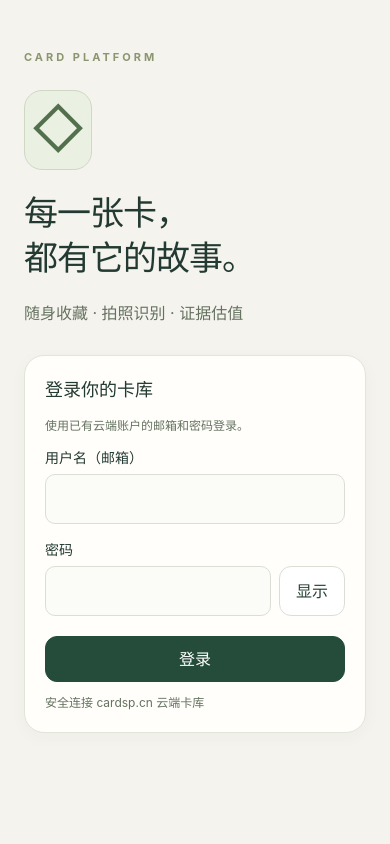
Test case: sends only username and password to the fixed cloud despite an old origin environment setting
Expected: the heading "登录你的卡库" is shown, [45,379,153,400]
Type "owner@example.com" into the field labelled "用户名（邮箱）" at (195, 499), box [45,474,345,524]
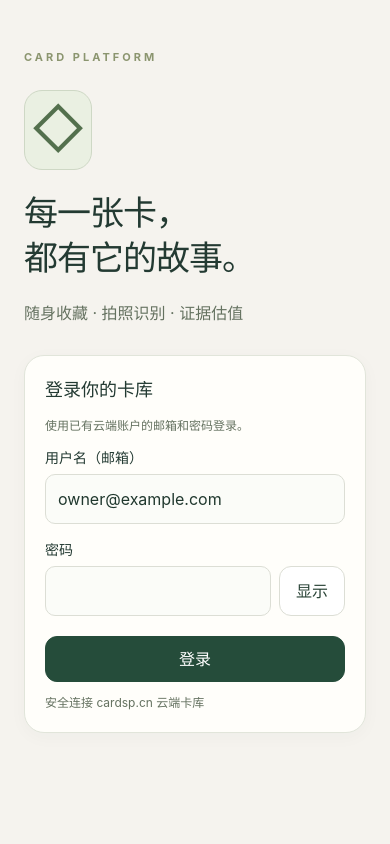
Type "password" into the password field labelled "密码" at (158, 591), box [45,566,271,616]
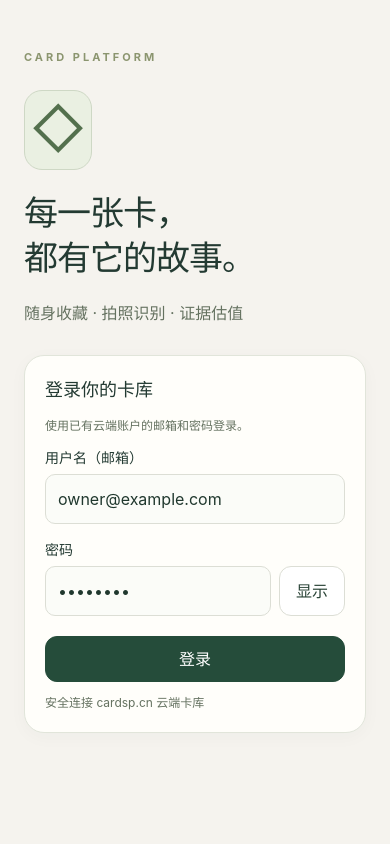
Click the button with aria-label "显示密码" at (312, 591), box [279,566,345,616]
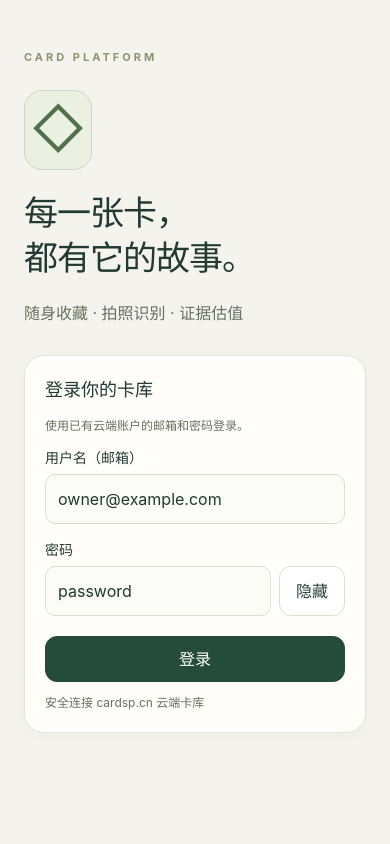
Click the button with aria-label "隐藏密码" at (312, 591), box [279,566,345,616]
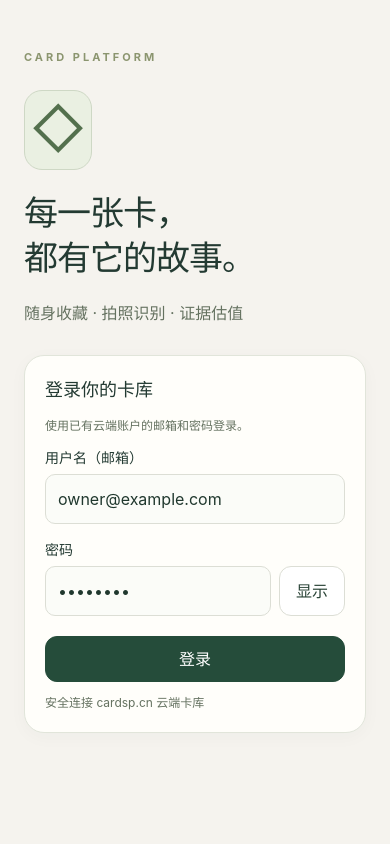
Click the button "登录" at (195, 659), box [45,636,345,682]
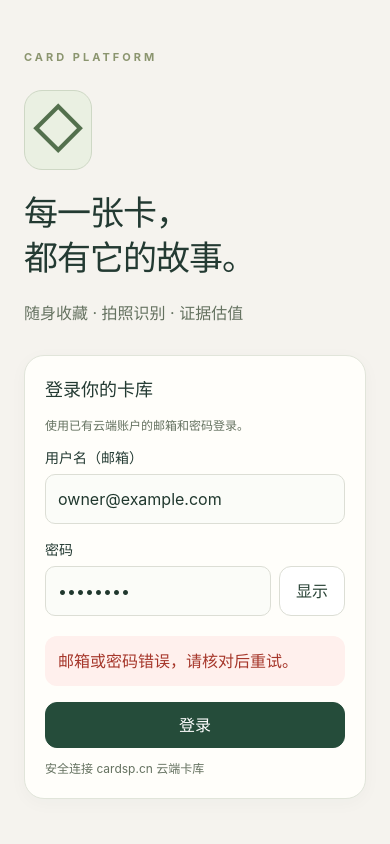
Expected: the message "邮箱或密码错误，请核对后重试。" is shown, [45,636,345,686]
Expected: the message shows "邮箱或密码错误", [58,651,298,671]
